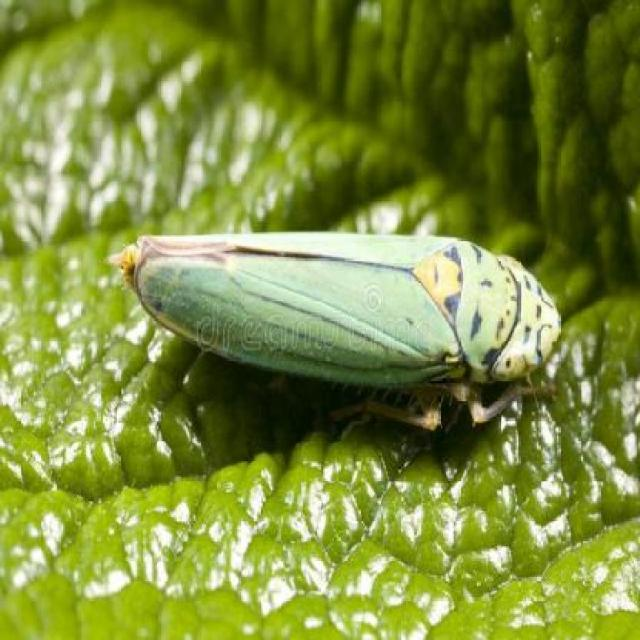green-leafhopper: (123, 225, 568, 426)
